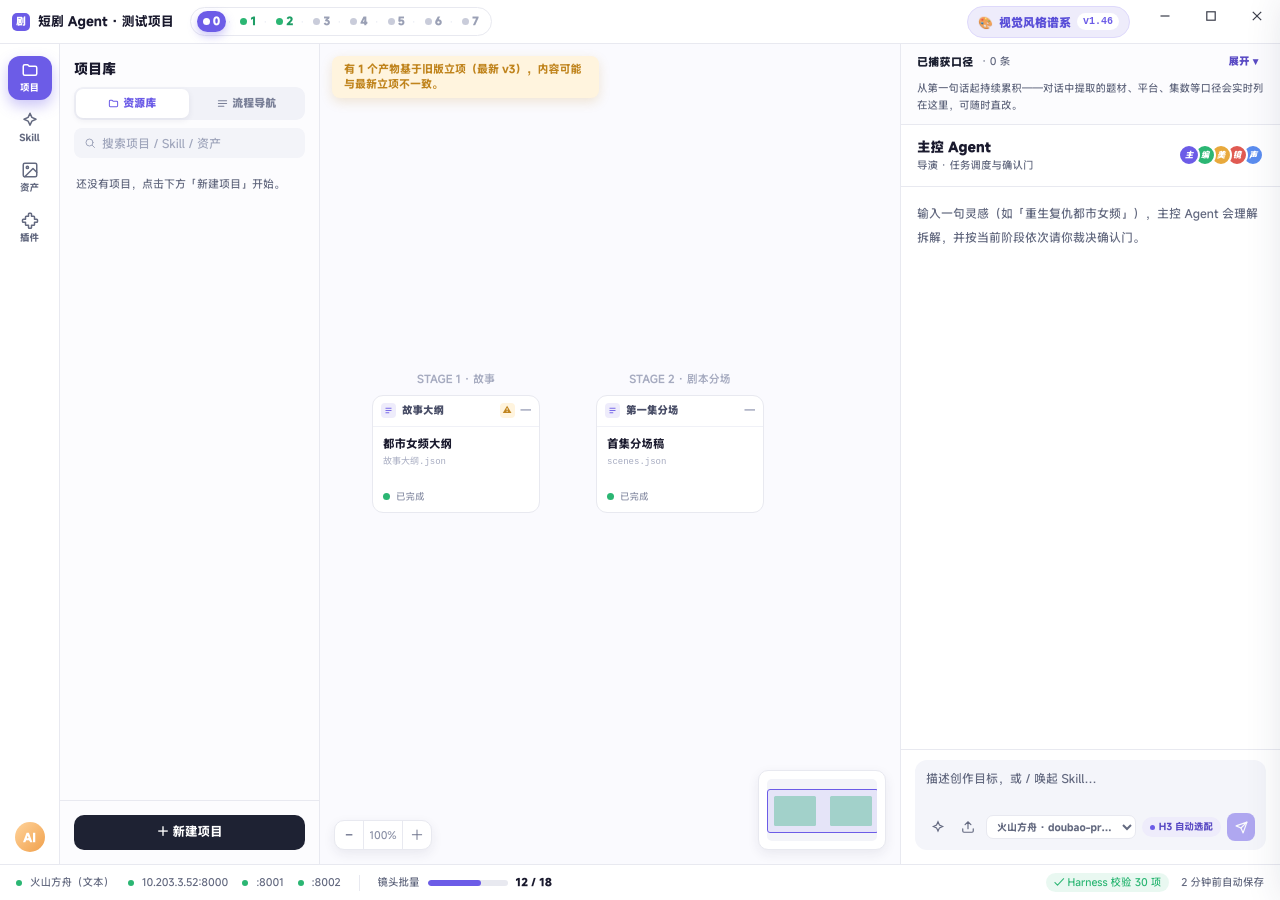
Test: feature-007 · StudioApp 集成（契约 §5 ④） › ① dirty 节点打开 → 确认出现且查看器未开（零 fileRead）
Expected: the text "都市女频大纲" is shown, left=383, top=436, right=452, bottom=451
What coordinates should you click on to do the following:
click the button "故事大纲 ⚠ — 都市女频大纲 故事大纲.json 已完成"
I would click on:
 (456, 454)
Its box is left=372, top=395, right=540, bottom=513.
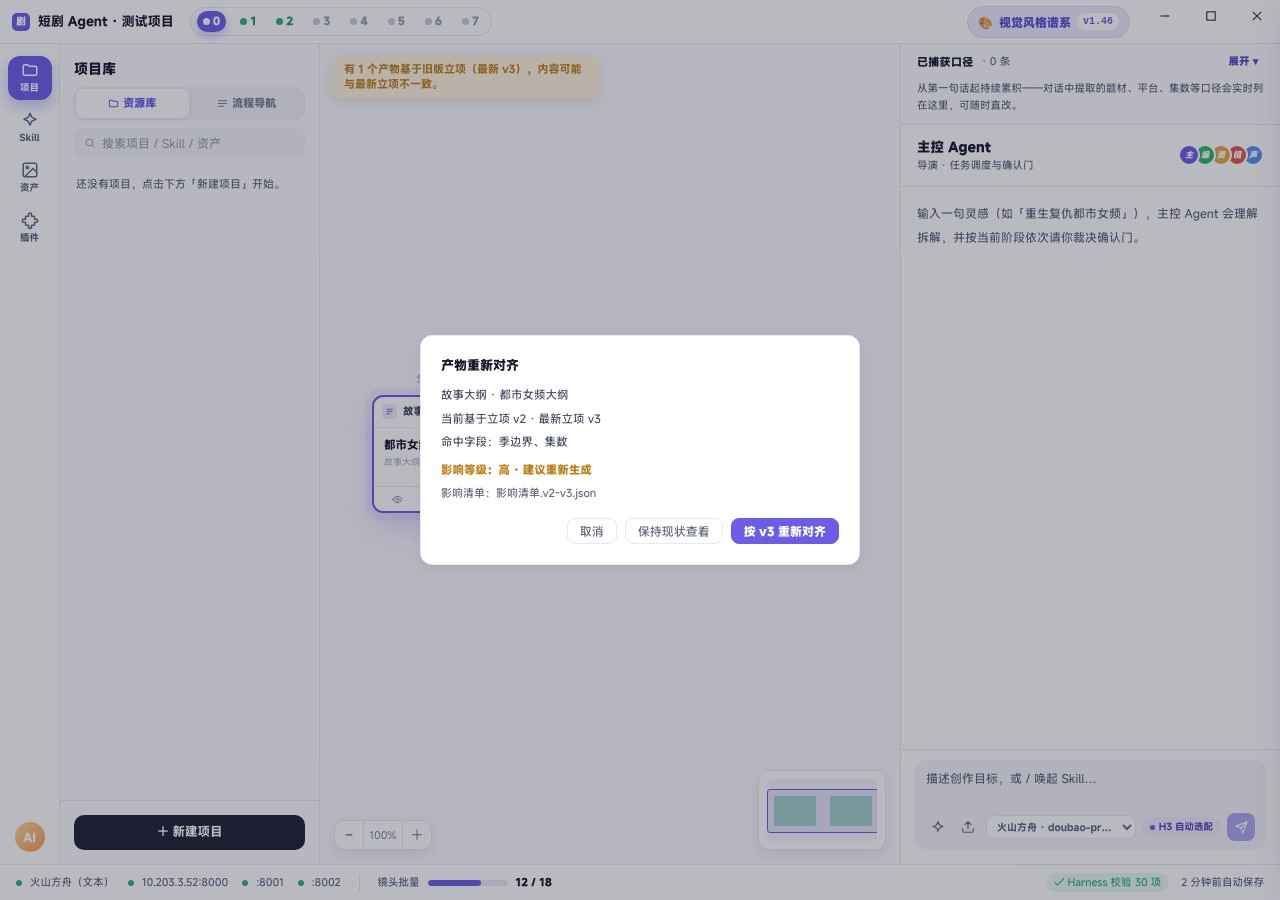
Result: the dialog "产物重新对齐" is shown at left=420, top=335, right=860, bottom=565
Result: the text "当前基于立项 v2 · 最新立项 v3" is shown at left=441, top=411, right=601, bottom=426
